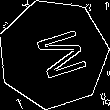M_W: (22, 24, 85, 84)
